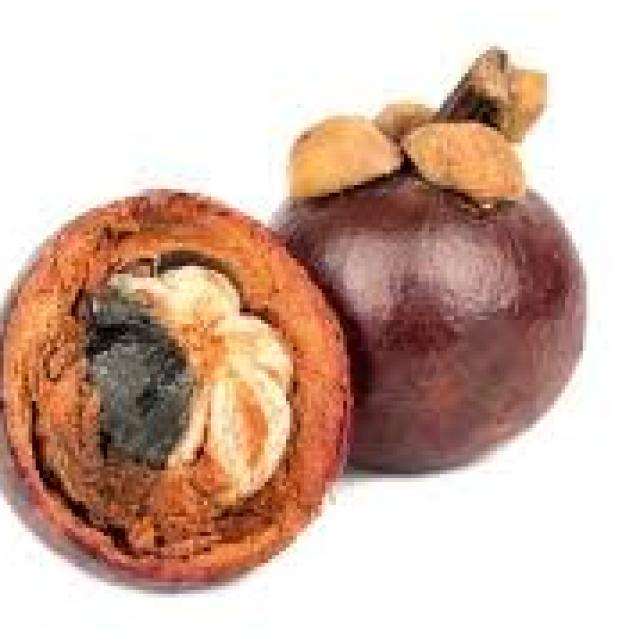inorganic: (0, 165, 364, 573), (269, 60, 597, 499)
